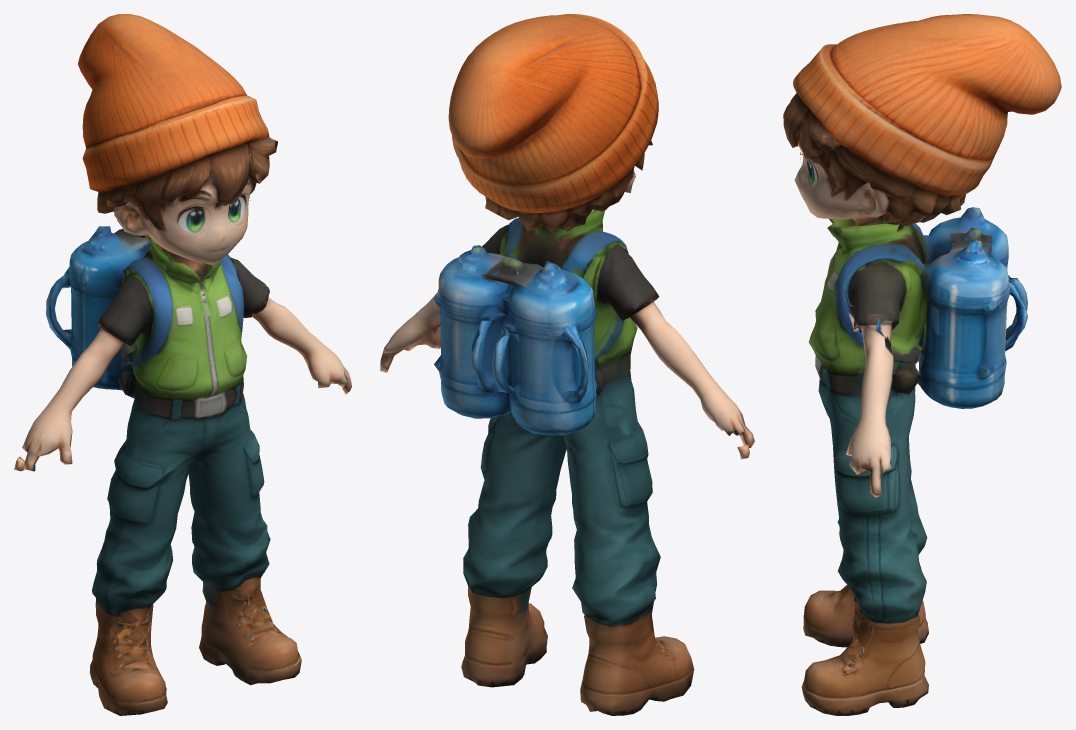
Rendered from Player_Blink.glb.
The picture shows the model from 3 angles, left to right: view 1: azimuth 30°, elevation 25°; view 2: azimuth 150°, elevation 25°; view 3: azimuth 270°, elevation 25°; orthographic projection. The views are drawn at different scales.
Parts seen in each view (by area): view 1: Player_Low_5K; view 2: Player_Low_5K; view 3: Player_Low_5K.
Part boxes in pixels (box(x1,y1,x2,y2)): Player_Low_5K: box(14, 14, 351, 715); Player_Low_5K: box(380, 14, 754, 715); Player_Low_5K: box(783, 14, 1061, 715).
Bounding box in the file's own units: 1.02 × 1.8 × 0.7002.
3 materials, 2 textured.
